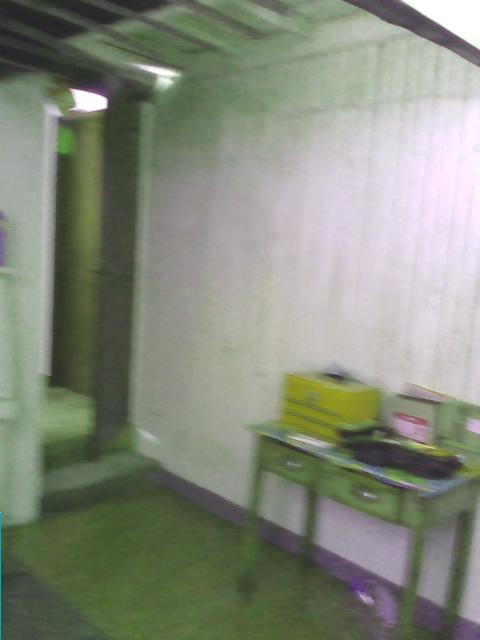semi_door: (43, 71, 139, 467)
